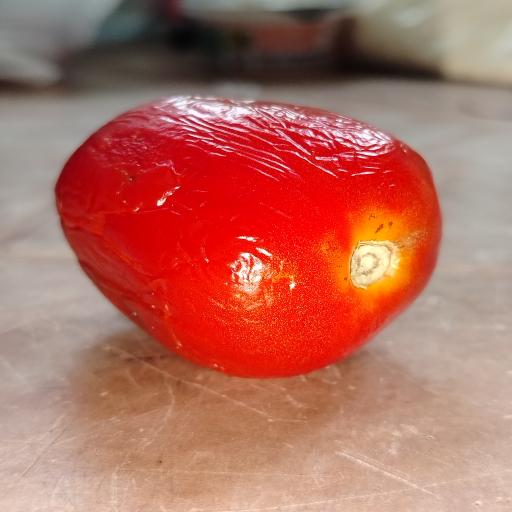spoiled: (56, 97, 441, 377)
